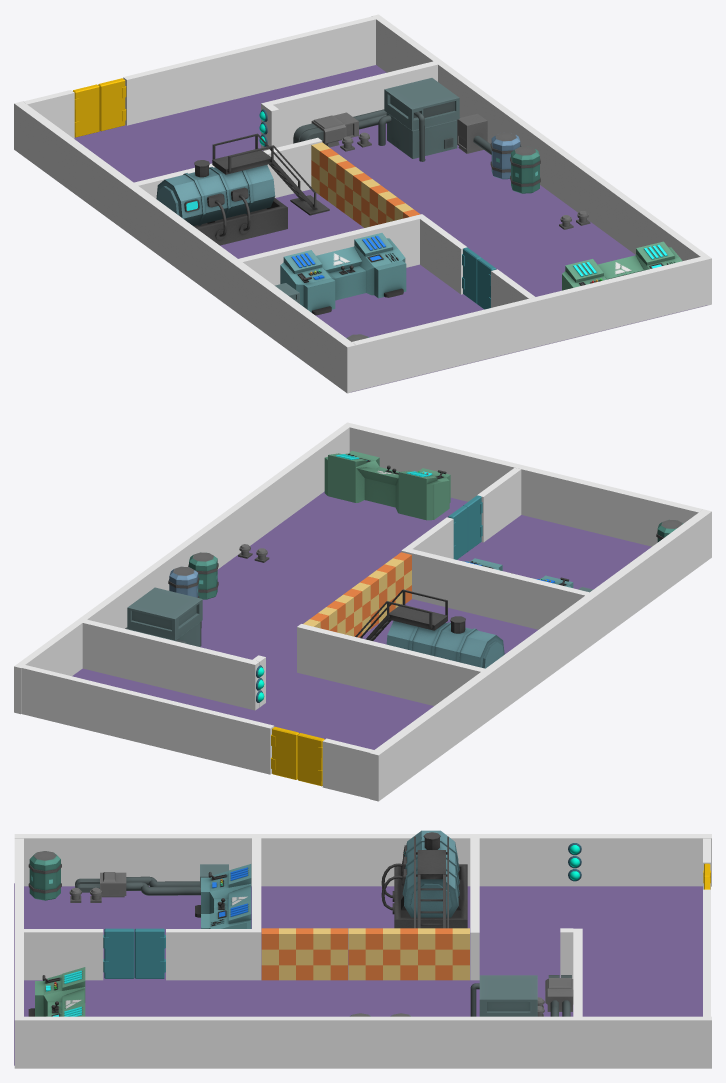
Rendered from maps_33.fbx.
3 views of the same model, one above another, from view 1: azimuth 30°, elevation 25°; view 2: azimuth 150°, elevation 25°; view 3: azimuth 270°, elevation 25° (orthographic). The views are drawn at different scales.
Parts seen in each view (by area): view 1: wall_01_08_geo, wall_01_07_geo, wall_01_05_geo, wall_01_10_geo, wall_01_06_geo, tankwater_geo, table_01_geo1, generatorStation_05_geo, wall_01_03_geo3, wall_01_03_geo4, generatorStation_03_geo, table_01_geo (+10 smaller); view 2: wall_01_08_geo, wall_01_07_geo, wall_01_05_geo, wall_01_10_geo, wall_01_06_geo, wall_01_03_geo3, wall_01_03_geo2, wall_01_03_geo4, table_01_geo, tankwater_geo, generatorStation_05_geo, wall_01_09_geo (+8 smaller); view 3: wall_01_08_geo, wall_01_06_geo, wall_01_07_geo, tankwater_geo, wall_01_11_geo, wall_01_11_geo1, table_01_geo1, generatorStation_05_geo, generatorStation_04_geo, table_01_geo, wall_01_05_geo, polySurface177 (+19 smaller).
Part boxes in pixels (x1,y1,x2,y2): wall_01_08_geo: (74,65,707,392); wall_01_07_geo: (14,101,355,393); wall_01_05_geo: (352,257,705,391); wall_01_10_geo: (123,16,375,125); wall_01_06_geo: (372,14,711,305); tankwater_geo: (156,133,329,245); table_01_geo1: (280,233,406,315); generatorStation_05_geo: (378,78,459,161); wall_01_03_geo3: (261,61,437,150); wall_01_03_geo4: (238,214,425,285); generatorStation_03_geo: (293,109,491,154); table_01_geo: (562,241,682,290); wall_01_08_geo: (72,491,651,749); wall_01_07_geo: (370,509,711,801); wall_01_05_geo: (349,424,702,546); wall_01_10_geo: (21,665,274,774); wall_01_06_geo: (14,422,353,714); wall_01_03_geo3: (82,619,259,710); wall_01_03_geo2: (297,624,484,705); wall_01_03_geo4: (401,547,589,629); table_01_geo: (324,451,450,520); tankwater_geo: (355,589,504,668); generatorStation_05_geo: (127,587,202,646); wall_01_09_geo: (322,738,373,798); wall_01_08_geo: (14,883,702,1065); wall_01_06_geo: (14,1016,711,1068); wall_01_07_geo: (14,834,711,886); tankwater_geo: (381,830,467,928); wall_01_11_geo: (166,929,251,980); wall_01_11_geo1: (24,929,103,980); table_01_geo1: (195,864,251,928); generatorStation_05_geo: (470,975,537,1016); generatorStation_04_geo: (75,864,228,897); table_01_geo: (28,967,85,1016); wall_01_05_geo: (14,838,23,1016); polySurface177: (103,928,134,978).
Size of the model in its own units: 73.34 by 15.59 by 116.
Materials: 9 (9 with a texture image).
